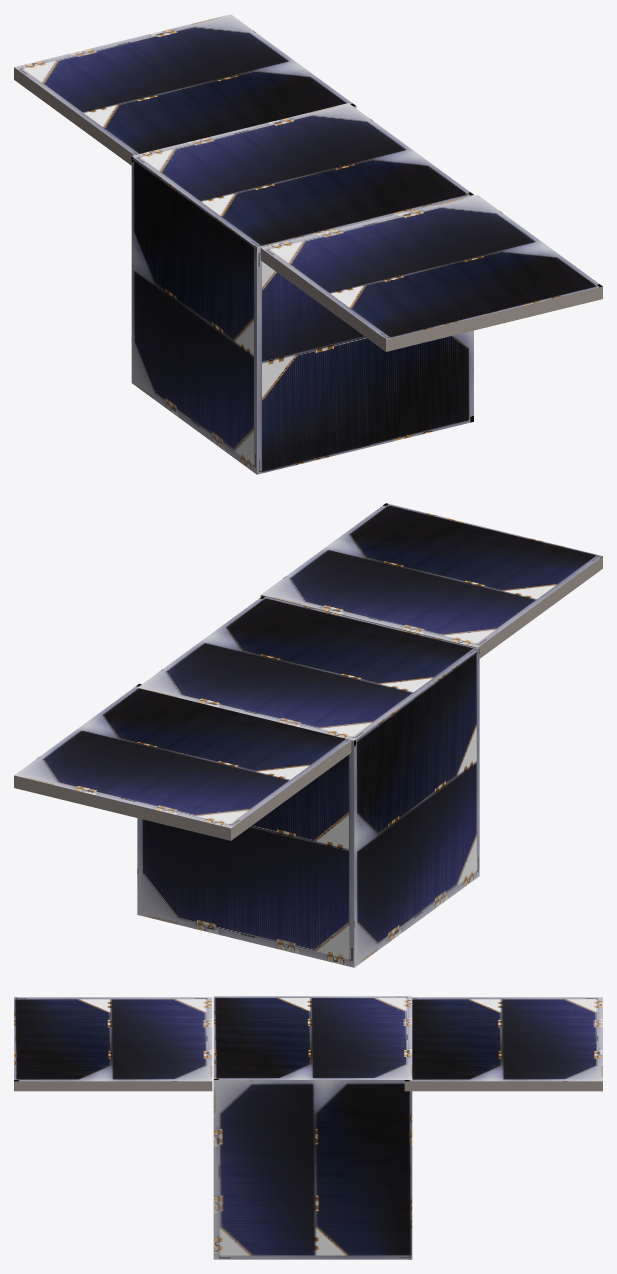
The model's file is simpleCOSMOSCUBEsc.dae.
The picture shows the model from 3 angles, top to bottom: view 1: azimuth 30°, elevation 25°; view 2: azimuth 150°, elevation 25°; view 3: azimuth 270°, elevation 25°; orthographic projection. The views are drawn at different scales.
Parts seen in each view (by area): view 1: Cube, Cube_001, Cube_002; view 2: Cube, Cube_002, Cube_001; view 3: Cube, Cube_001, Cube_002.
Boxes of the visible parts, <box> form: Cube: <box>131,103,473,474</box>; Cube_001: <box>260,195,602,351</box>; Cube_002: <box>14,14,356,165</box>; Cube: <box>137,596,479,967</box>; Cube_002: <box>14,683,351,840</box>; Cube_001: <box>260,503,602,658</box>; Cube: <box>213,996,412,1259</box>; Cube_001: <box>14,997,212,1091</box>; Cube_002: <box>404,997,602,1091</box>.
Size of the model in its own units: 2.03 by 5.94 by 2.
3 materials, 3 textured.
